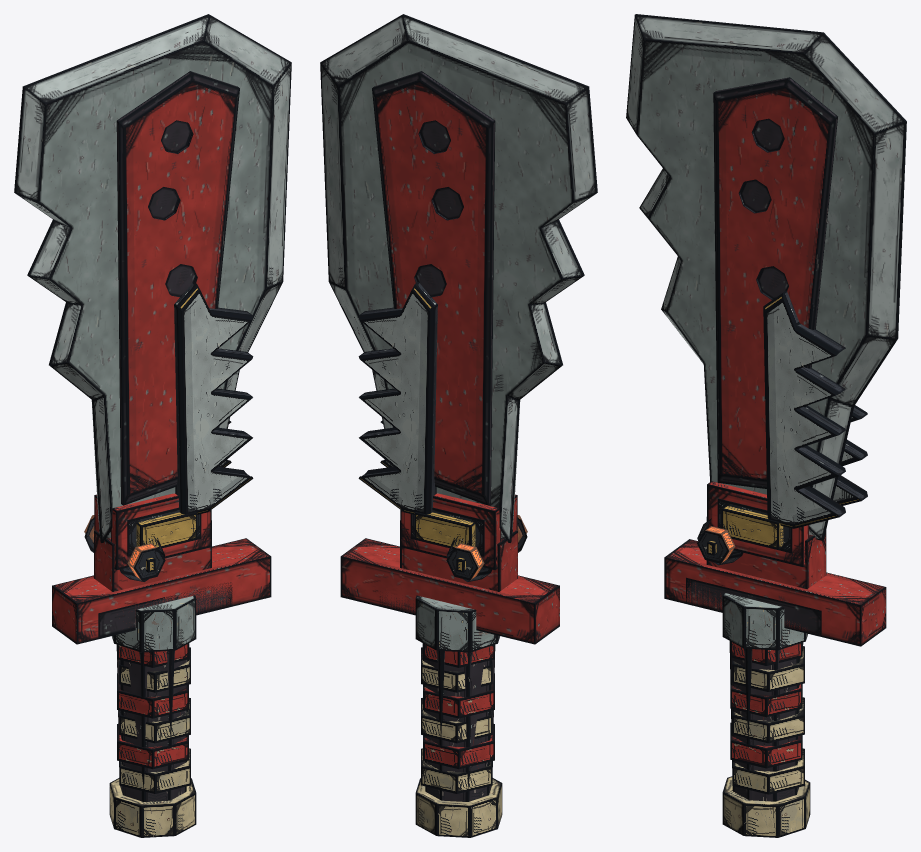
File: 02_Chopper.glb
3 views of the same model, side by side, from view 1: azimuth 30°, elevation 25°; view 2: azimuth 150°, elevation 25°; view 3: azimuth 330°, elevation 25° (orthographic).
Visible parts, largest first — view 1: blade_bandit, grip_bandit, FACE_FRONT (×2); view 2: blade_bandit, grip_bandit, FACE_BACK (×2); view 3: blade_bandit, grip_bandit, FACE_FRONT (×2), FACE_BACK.
Boxes of the visible parts, x1=… form: blade_bandit: x1=14, y1=14, x2=291, y2=644; grip_bandit: x1=109, y1=595, x2=196, y2=837; FACE_FRONT (×2): x1=115, y1=282, x2=253, y2=581; blade_bandit: x1=320, y1=14, x2=597, y2=644; grip_bandit: x1=415, y1=595, x2=502, y2=837; FACE_BACK (×2): x1=358, y1=282, x2=496, y2=581; blade_bandit: x1=626, y1=14, x2=906, y2=646; grip_bandit: x1=722, y1=592, x2=810, y2=837; FACE_FRONT (×2): x1=697, y1=290, x2=845, y2=565; FACE_BACK: x1=833, y1=405, x2=867, y2=505.
Bounding box in the file's own units: 0.64 × 1.75 × 0.2175.
Materials: 5 (5 with a texture image).
